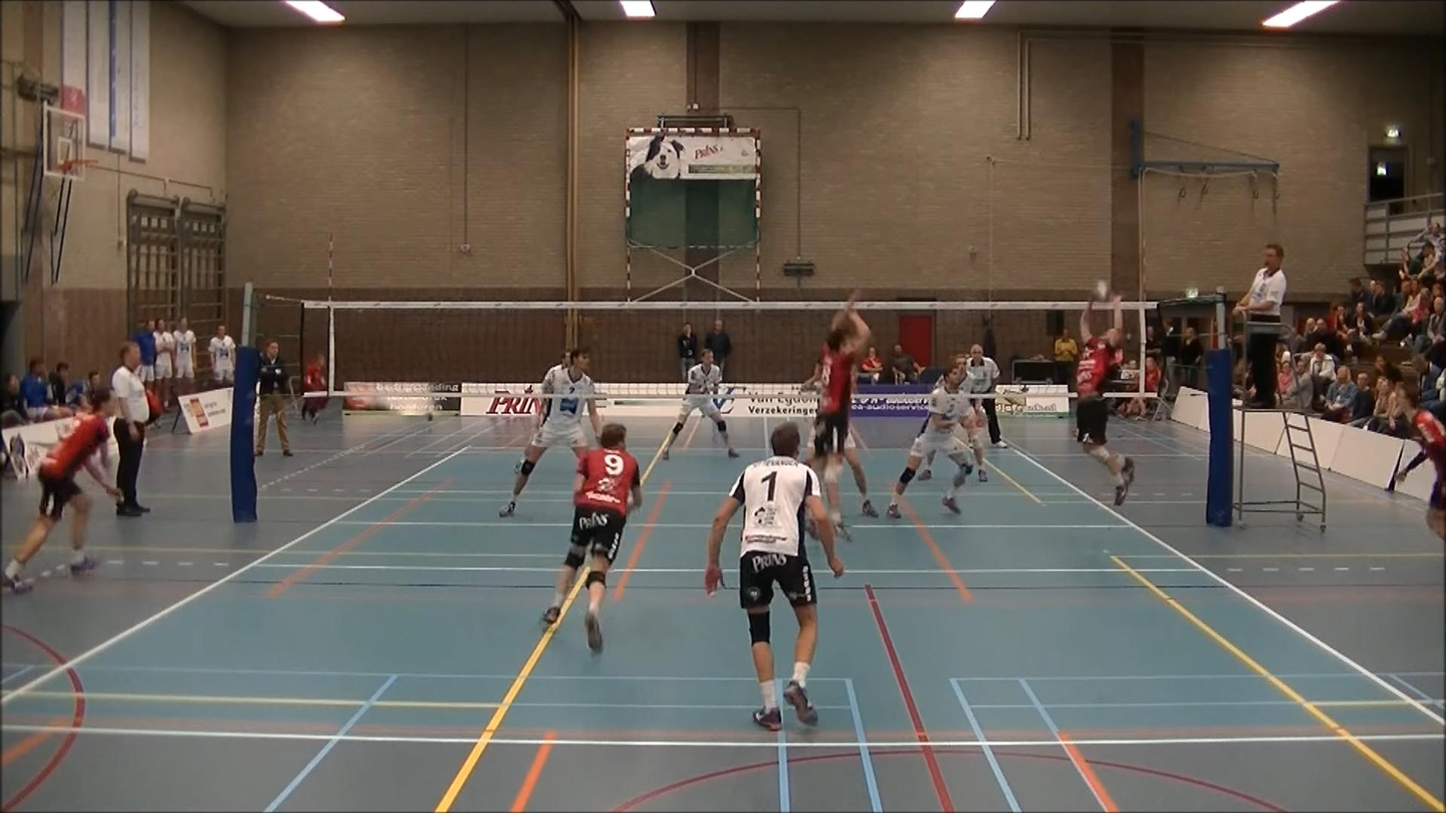Attack: (791, 280, 890, 530)
Player: (704, 422, 844, 730), (3, 386, 121, 593), (542, 424, 642, 651), (499, 348, 600, 516), (887, 364, 974, 518), (661, 349, 738, 459), (1396, 385, 1445, 539), (843, 428, 879, 517), (545, 349, 572, 380), (915, 452, 933, 481)
Set: (1075, 285, 1133, 507)
ball: (1088, 279, 1118, 305)
